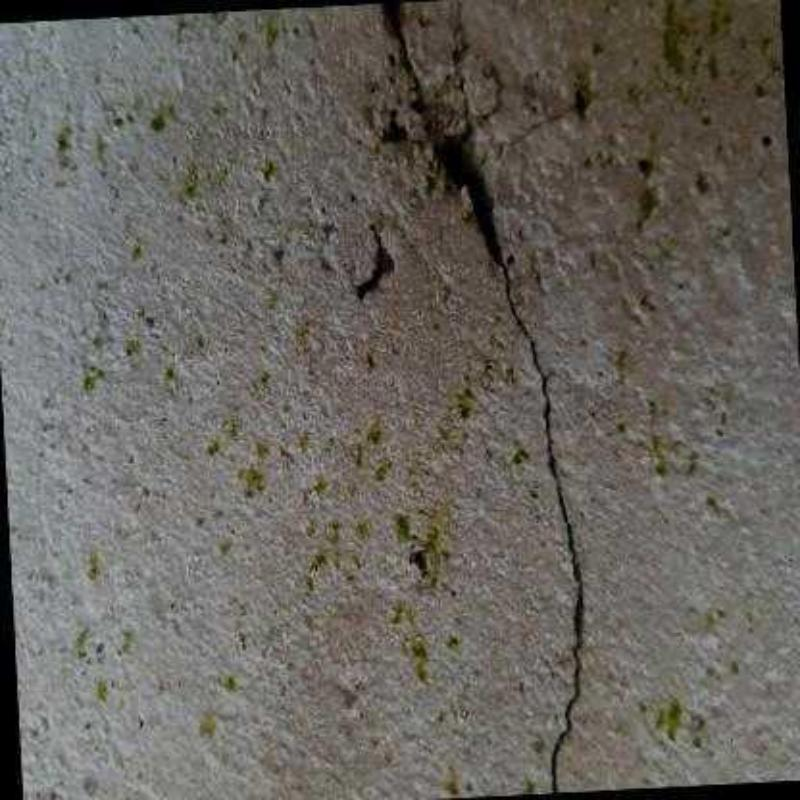pothole: (371, 0, 582, 793)
